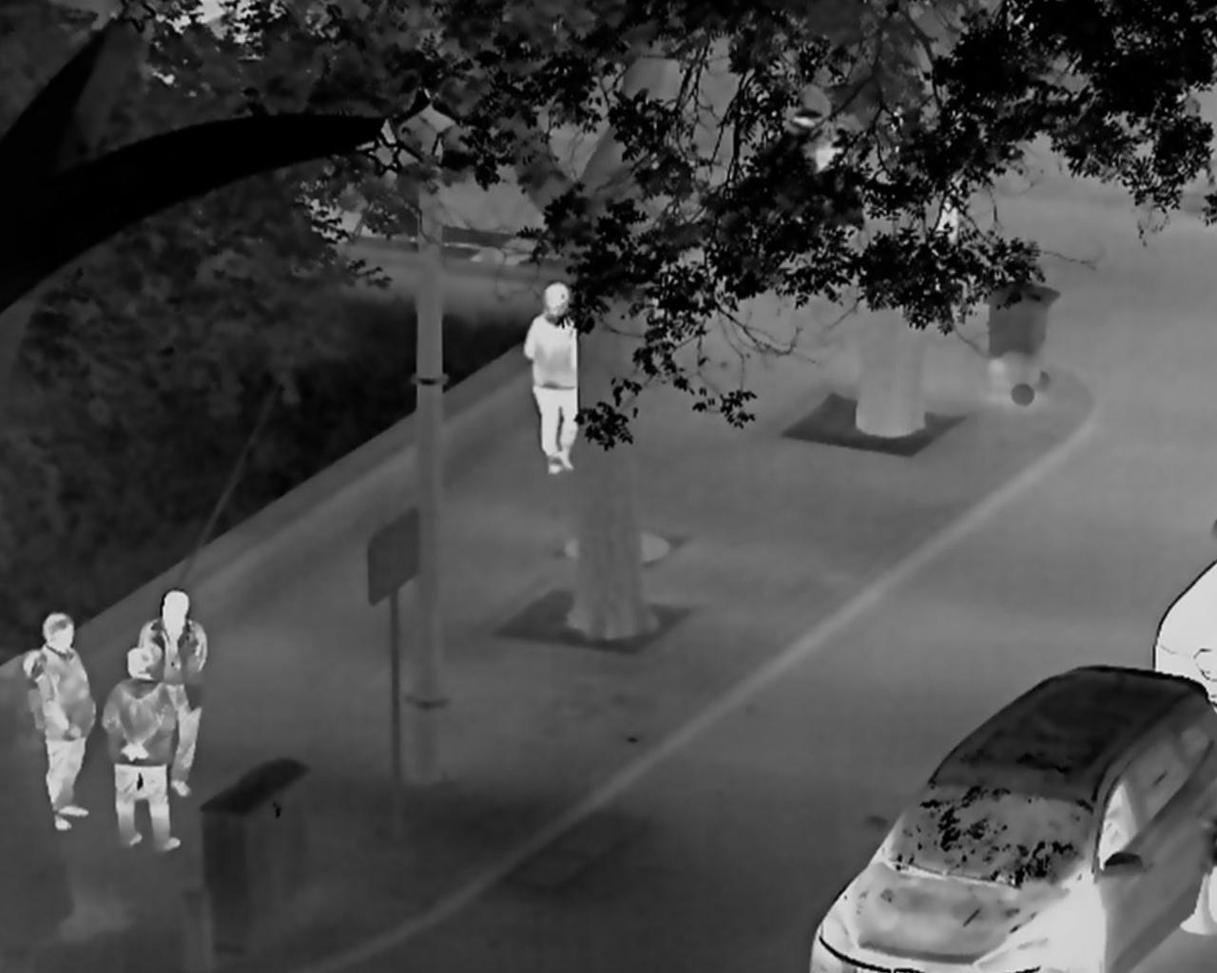person: (101, 648, 182, 852), (134, 588, 208, 800), (37, 612, 96, 831), (521, 280, 580, 478), (19, 649, 48, 741)
